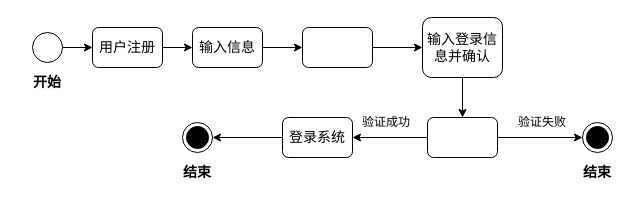
Image size: 644x205. Some labels were removed from this diagram. Here are the shapes that lost their labels. From the top down, the box of each, then its label:
(302, 26, 372, 68): 注册验证
(426, 116, 498, 158): 系统验证
